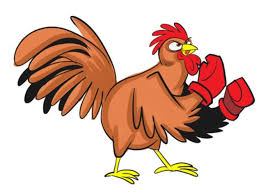Gà/Chicken: (8, 5, 259, 186)
